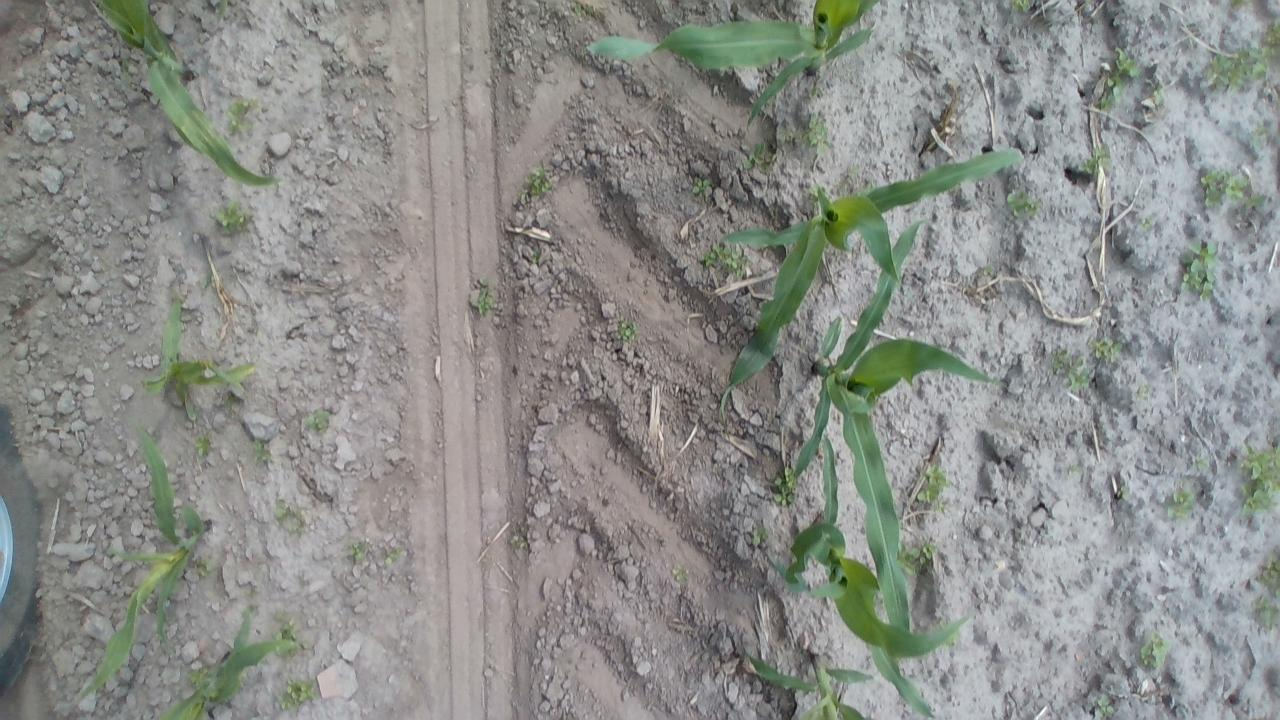Maize: (778, 215, 1011, 629), (712, 143, 1024, 400), (765, 423, 981, 720), (76, 420, 214, 702), (580, 3, 887, 128), (92, 0, 283, 193), (156, 606, 292, 720), (138, 291, 260, 409), (741, 647, 880, 720)
Weeds: (1239, 442, 1280, 520), (1194, 166, 1262, 212), (1204, 47, 1270, 92), (1094, 52, 1138, 112), (1180, 238, 1220, 302), (699, 239, 748, 278), (1052, 346, 1093, 391), (914, 461, 950, 512), (276, 678, 320, 712), (272, 612, 303, 658), (1004, 186, 1044, 221), (225, 96, 258, 137), (467, 276, 499, 318), (1139, 631, 1172, 671), (770, 464, 799, 509), (900, 539, 936, 575), (274, 498, 308, 536), (1074, 143, 1110, 177), (522, 164, 554, 201), (215, 200, 249, 234), (1088, 332, 1124, 364), (1166, 485, 1198, 520), (804, 116, 832, 155), (1254, 592, 1280, 630), (742, 142, 770, 172), (304, 408, 334, 434), (1089, 692, 1118, 718), (1258, 555, 1280, 587), (1258, 22, 1276, 56), (252, 437, 272, 464), (346, 540, 368, 564), (750, 524, 770, 550), (195, 430, 215, 456), (617, 318, 637, 344), (777, 125, 798, 149), (192, 556, 214, 578), (1192, 451, 1213, 474), (1146, 84, 1166, 108), (511, 526, 528, 552), (382, 545, 404, 565), (690, 176, 710, 198), (1252, 124, 1270, 148), (1132, 384, 1152, 404), (572, 2, 592, 21), (670, 563, 690, 582), (1009, 0, 1034, 14), (212, 1, 232, 18), (1140, 212, 1156, 233), (1066, 461, 1086, 477), (978, 262, 996, 278), (1116, 481, 1129, 500), (529, 247, 542, 263), (1231, 0, 1249, 10)
